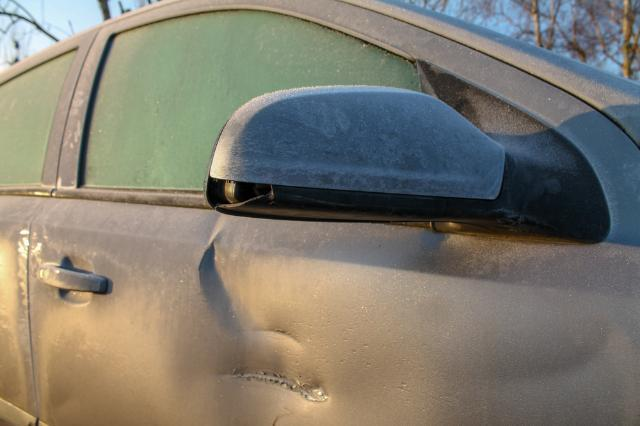dent: (170, 254, 414, 426), (495, 312, 629, 404)
